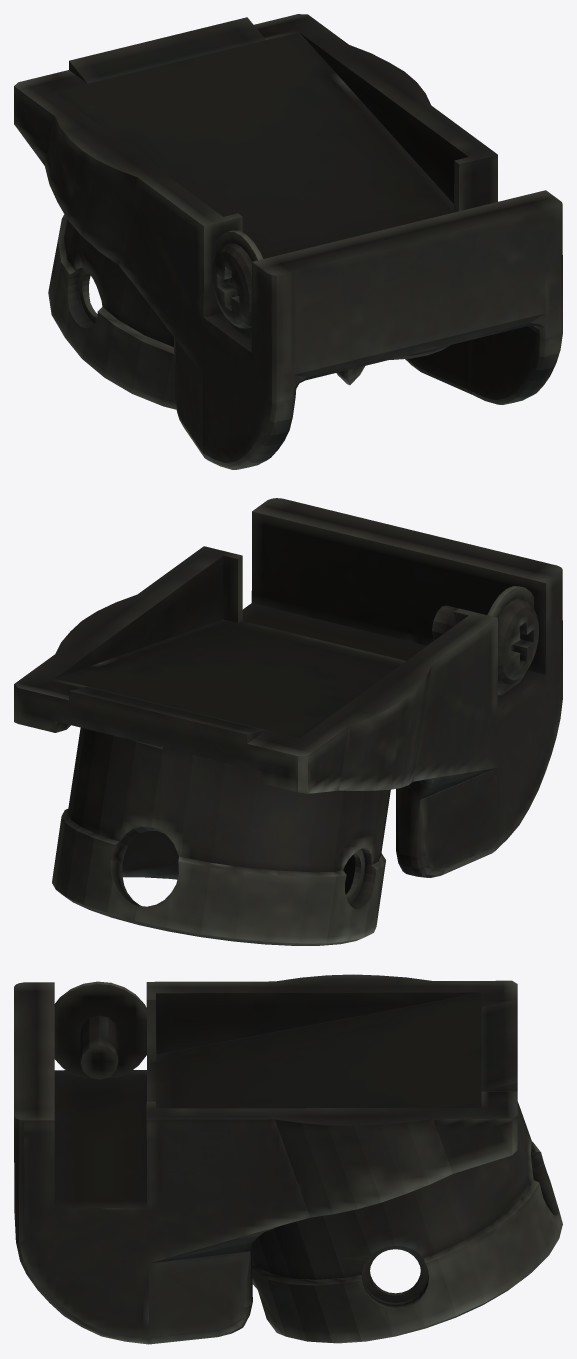
3 views of the same model, one above another, from view 1: azimuth 30°, elevation 25°; view 2: azimuth 150°, elevation 25°; view 3: azimuth 270°, elevation 25° (orthographic). The views are drawn at different scales.
Visible parts, largest first — view 1: TW_5926d2be86f774134d668e4e_PZ_Import; view 2: TW_5926d2be86f774134d668e4e_PZ_Import; view 3: TW_5926d2be86f774134d668e4e_PZ_Import.
Part boxes in pixels (bbox=[...]): TW_5926d2be86f774134d668e4e_PZ_Import: bbox=[14, 14, 562, 469]; TW_5926d2be86f774134d668e4e_PZ_Import: bbox=[14, 498, 562, 945]; TW_5926d2be86f774134d668e4e_PZ_Import: bbox=[14, 974, 562, 1344].
Bounding box in the file's own units: 0.00966 × 0.0148 × 0.00781.
1 material, 1 textured.
